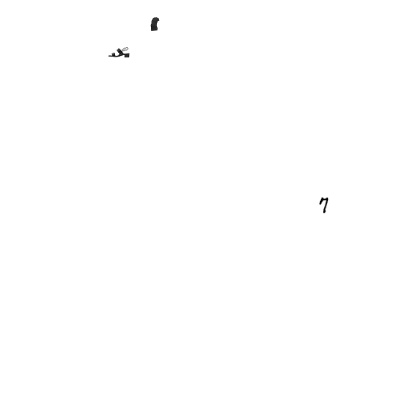7: (313, 192, 335, 214)
Sandal: (108, 41, 130, 63)
T-shirt/top: (148, 17, 162, 31)
